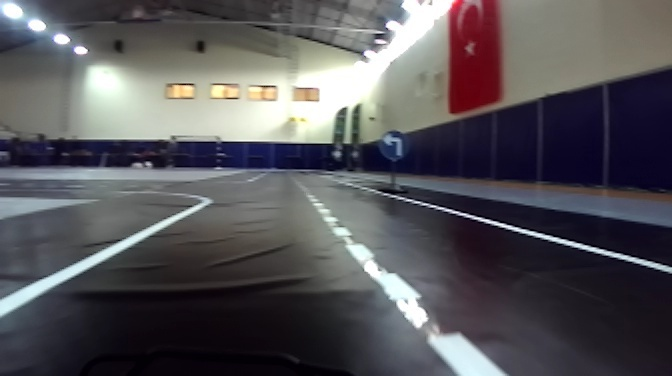sola_donus: (378, 126, 408, 163)
